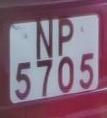0: (55, 55, 77, 97)
5: (13, 59, 35, 103), (77, 49, 96, 95)
7: (32, 57, 56, 100)
N: (34, 16, 58, 60)
P: (55, 15, 77, 61)
